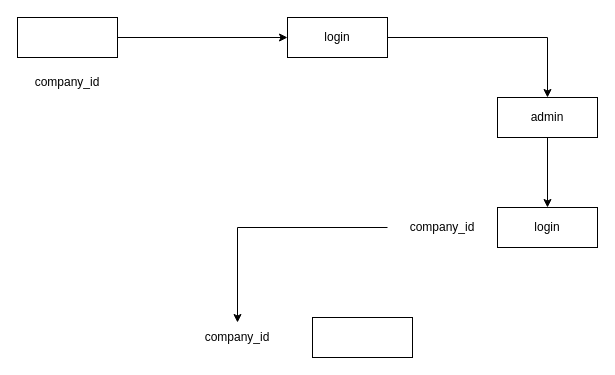
The diagram is 615 pixels wide and 375 high, and some of its shapes have lost their labels. The shapes that lost their labels are listed below. From the top down, each one's centre as x and y in pixels, then its label:
At point 67,37: "register".
At point 362,337: "products".
